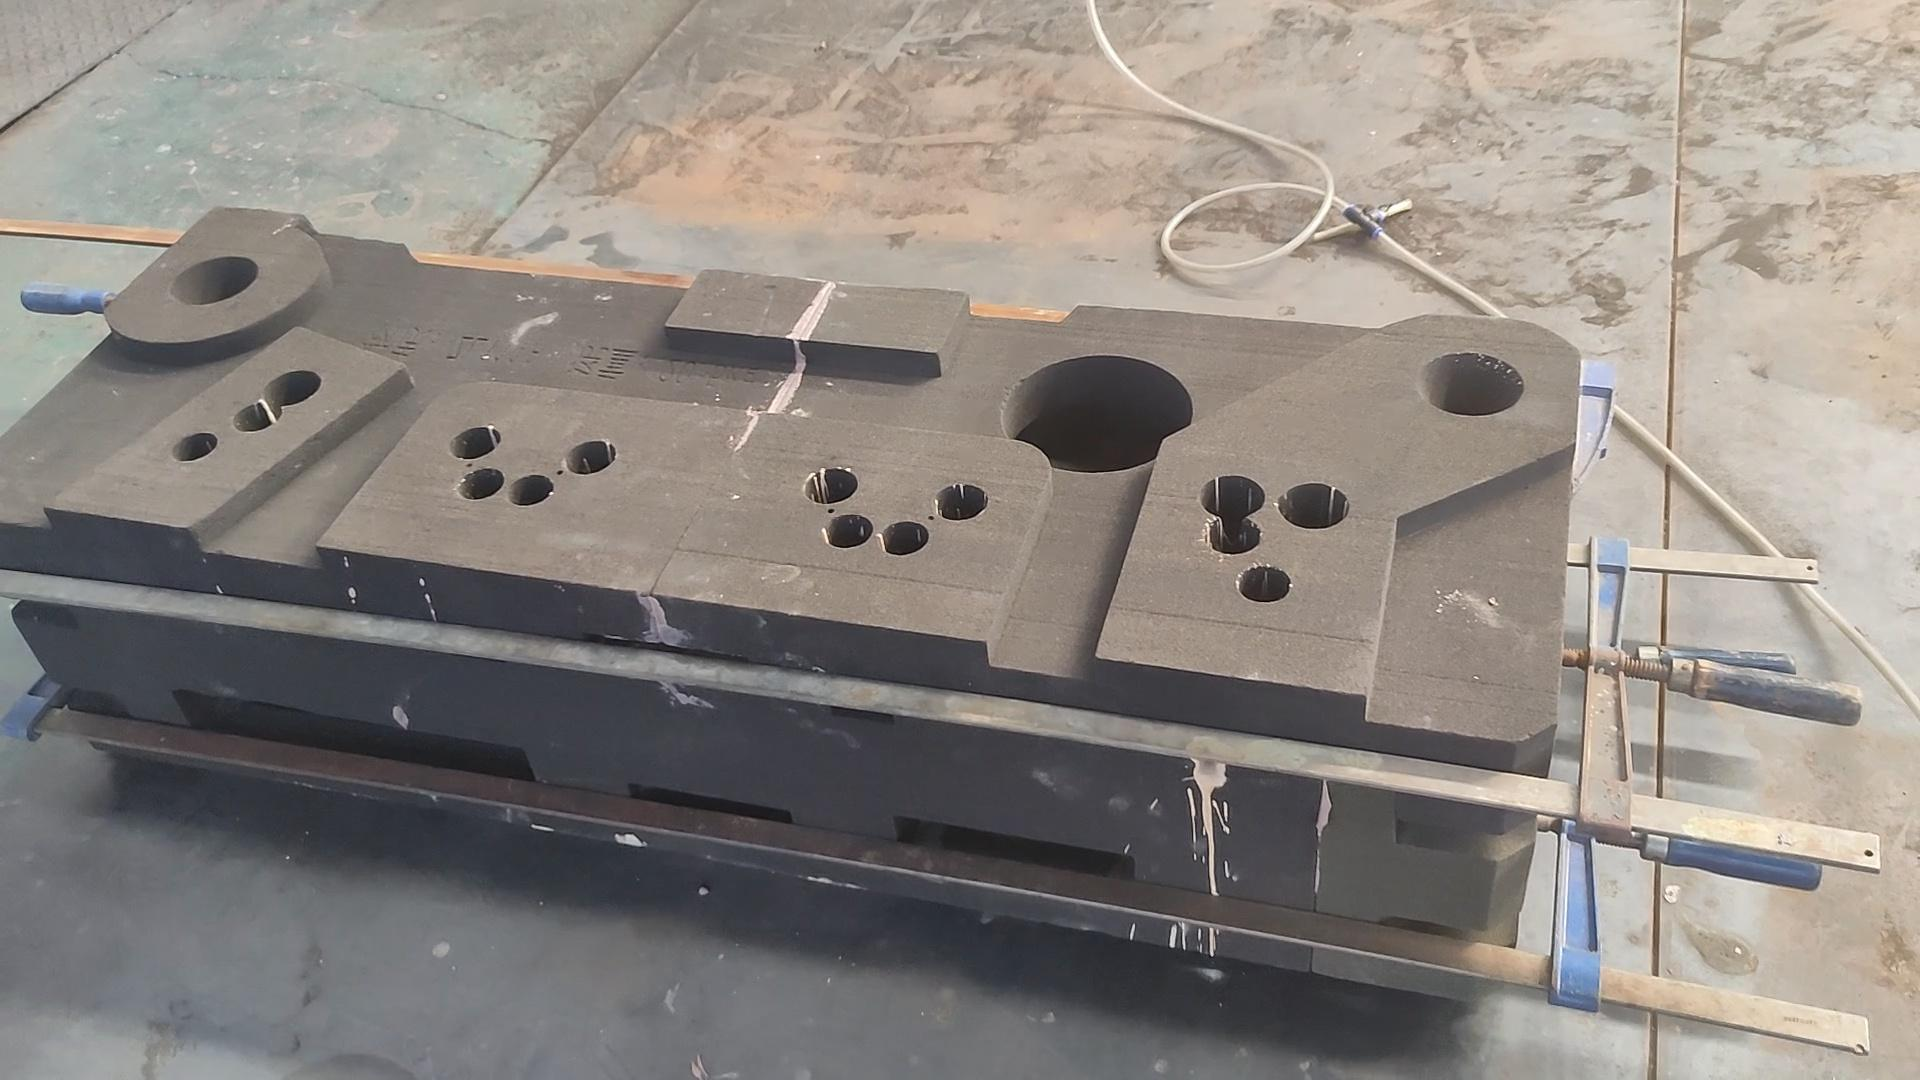pouring hole: (1416, 352, 1524, 414), (167, 255, 258, 306)
